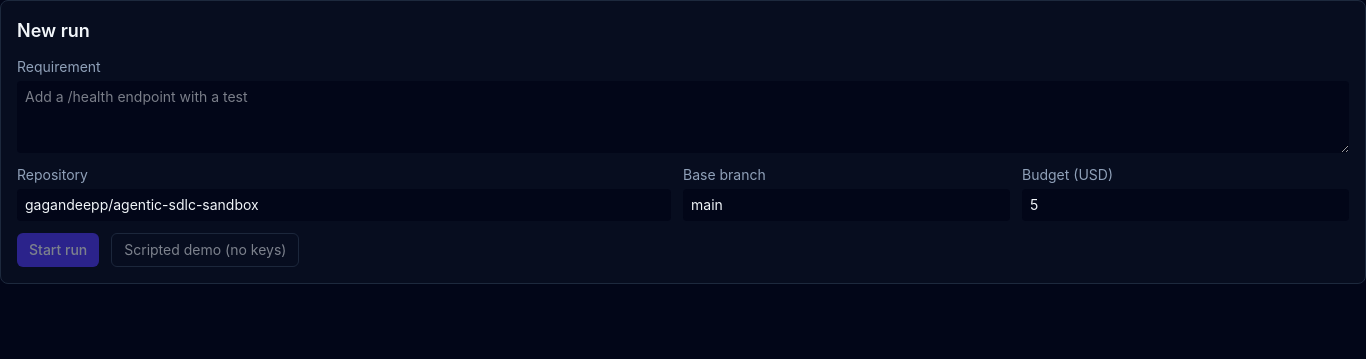
Test: shows why a run could not start
Type "x" into the text box labelled "Requirement".
click(683, 117); type("x")  # box x1=17 y1=81 x2=1349 y2=153
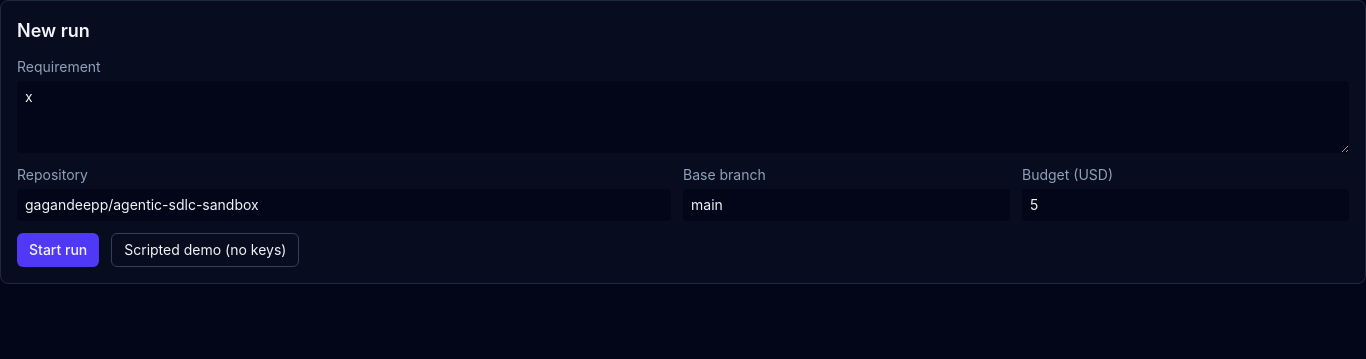
Click the button "Start run".
click(58, 250)  # box x1=17 y1=233 x2=99 y2=267
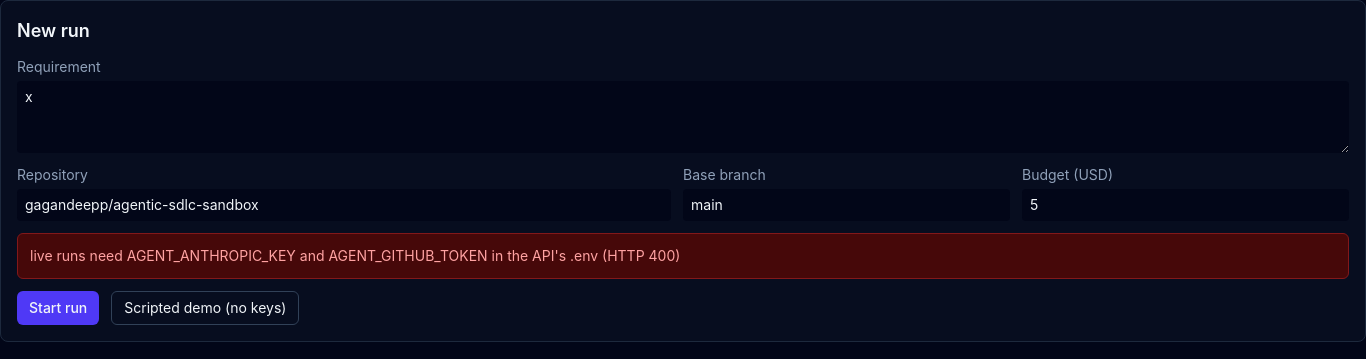
expect the message shows "AGENT_ANTHROPIC_KEY": met, box x1=30 y1=247 x2=680 y2=264
